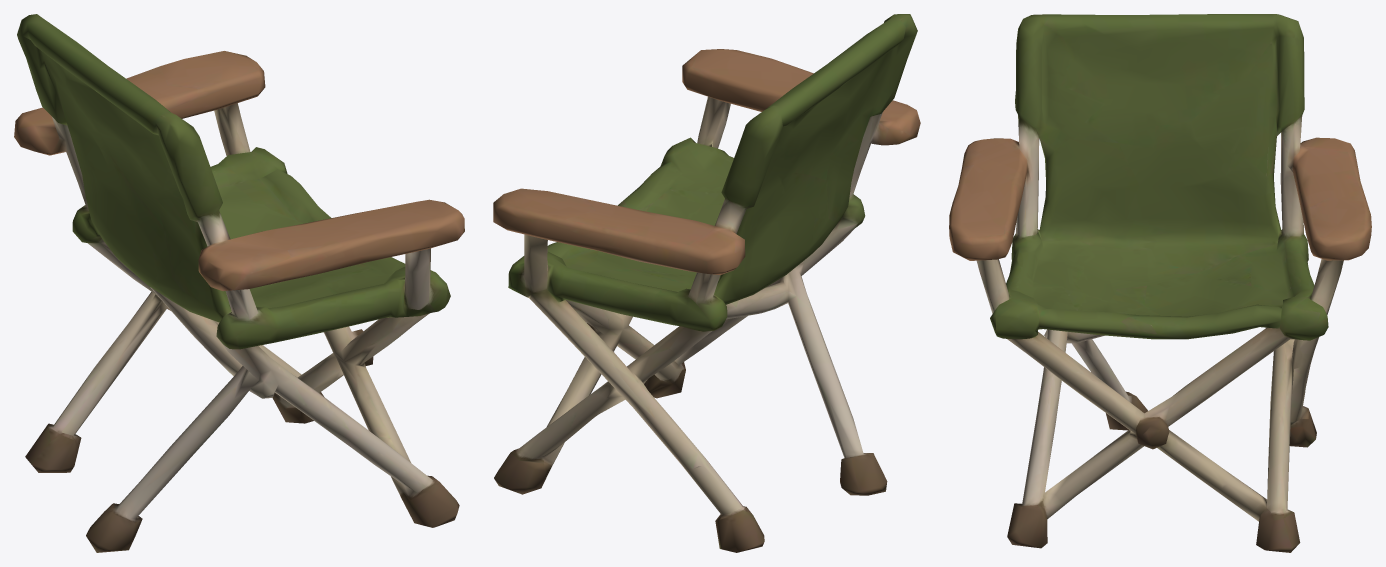
File: f-chair.glb
The picture shows the model from 3 angles, left to right: view 1: azimuth 30°, elevation 25°; view 2: azimuth 150°, elevation 25°; view 3: azimuth 270°, elevation 25°; orthographic projection. The views are drawn at different scales.
Parts seen in each view (by area): view 1: tripo_node_13fa72d9-4138-4abe-987a-f44e85e2dcf3; view 2: tripo_node_13fa72d9-4138-4abe-987a-f44e85e2dcf3; view 3: tripo_node_13fa72d9-4138-4abe-987a-f44e85e2dcf3.
Boxes of the visible parts, x1,y1,x2,y2 form: tripo_node_13fa72d9-4138-4abe-987a-f44e85e2dcf3: (14,14,464,552); tripo_node_13fa72d9-4138-4abe-987a-f44e85e2dcf3: (493,14,920,552); tripo_node_13fa72d9-4138-4abe-987a-f44e85e2dcf3: (949,14,1371,552).
Size of the model in its own units: 0.7225 by 1 by 0.918.
1 material, 1 textured.
